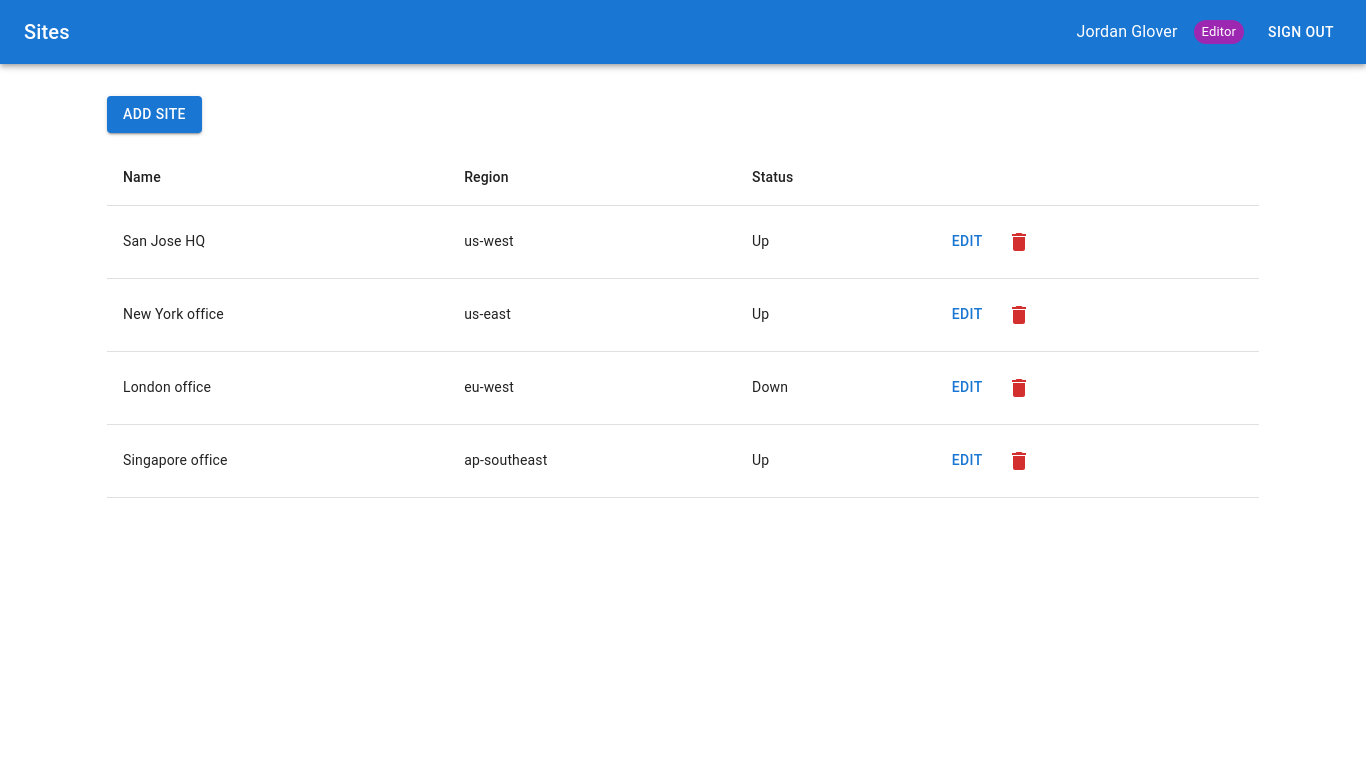
DashboardPage › lets an editor delete a site after confirming
The width and height of the screenshot is (1366, 768).
Click the button named "Delete San Jose HQ". click: (1019, 242)
box: [999,222,1039,262]
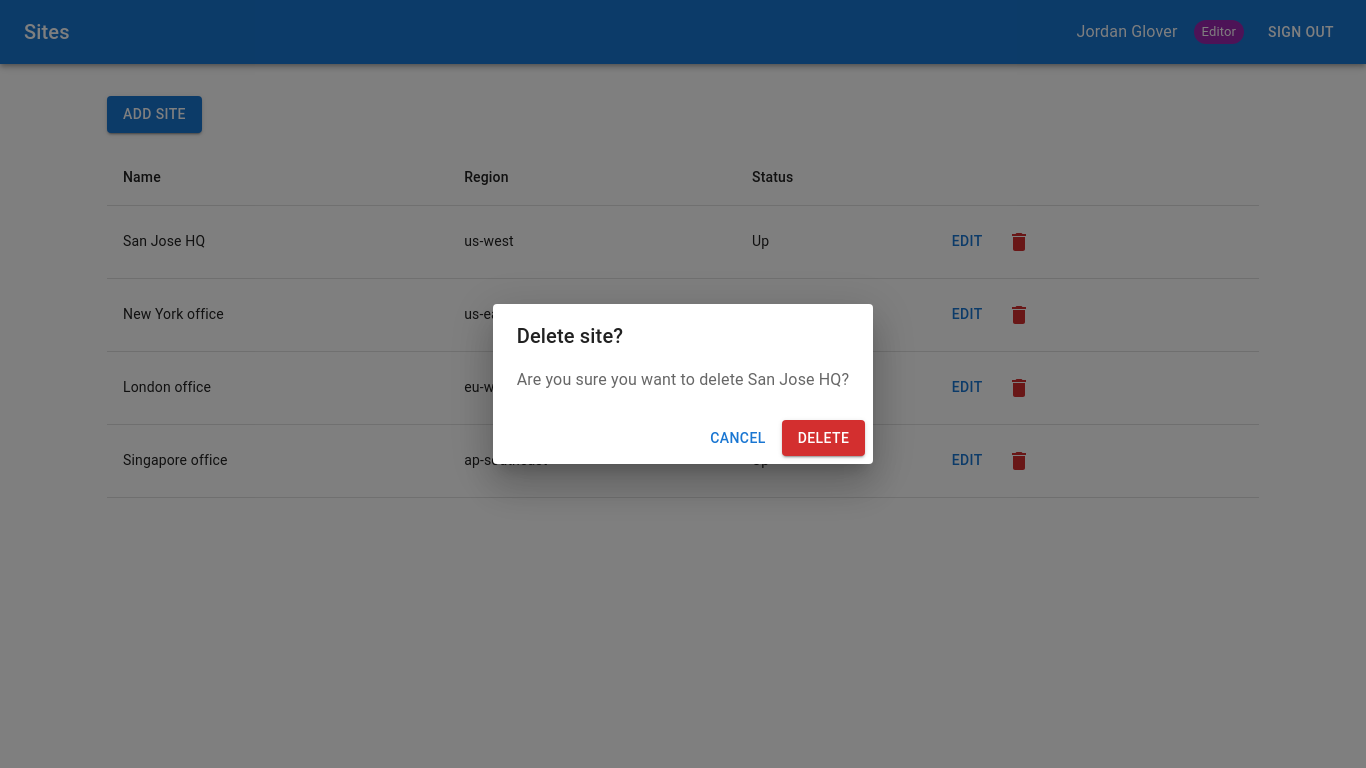
Click the button "Delete". click: (823, 438)
box: [782,420,865,456]
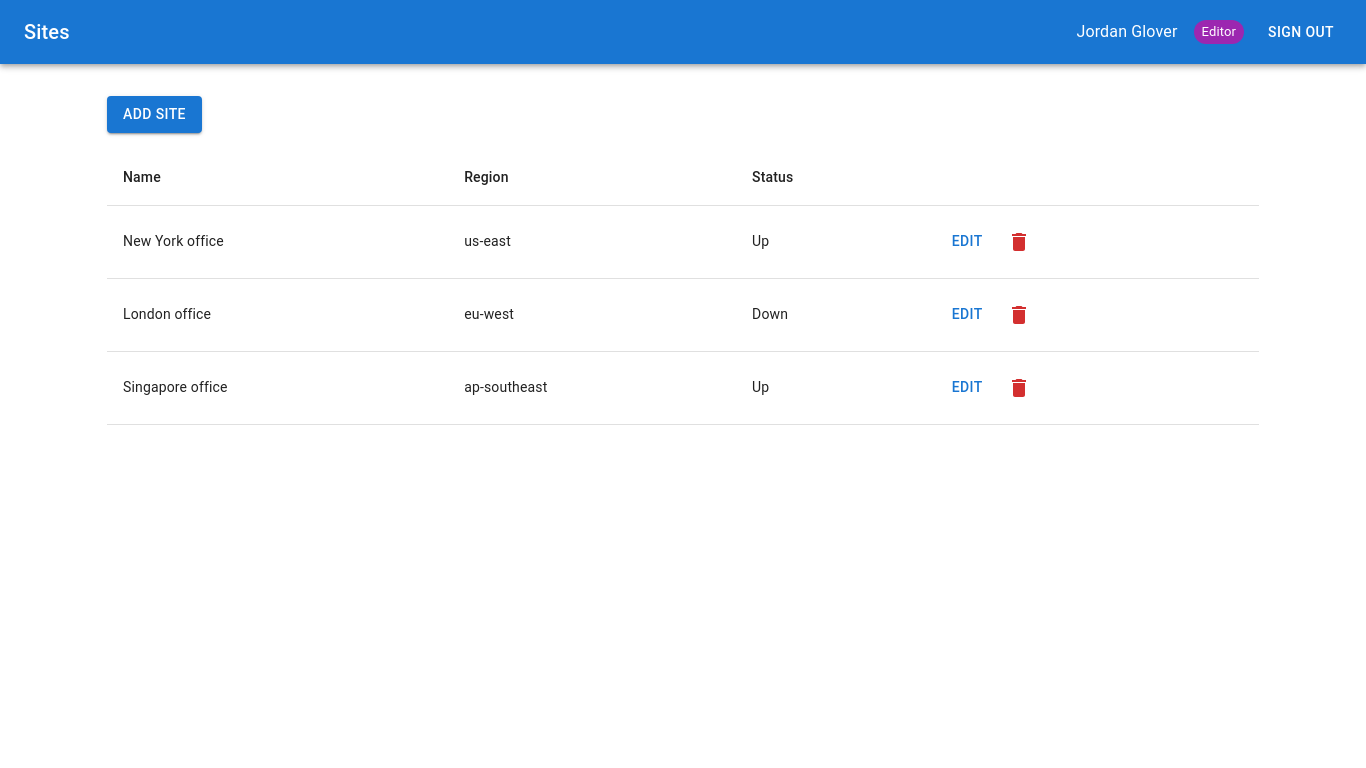
Result: the text "San Jose HQ" is gone
